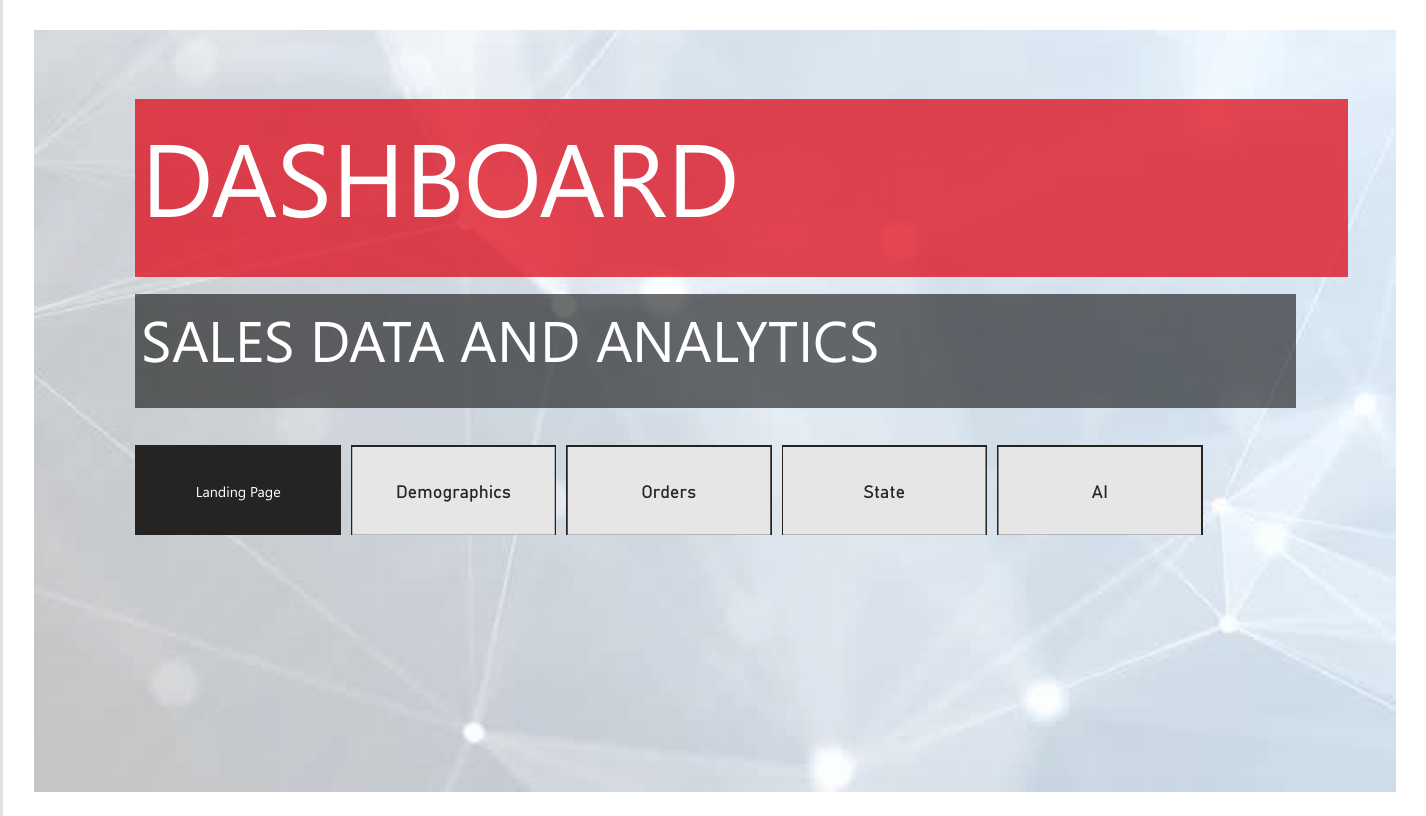

Layout of this report page (visuals, bound fields, positions):
{"tool":"powerbi","page":{"name":"Landing Page","canvas":[1280,720],"ordinal":0},"visuals":[{"type":"image","box":[0,0,1280.8,720.6],"z":0},{"type":"group","id":"g1","title":"Group 1","box":[100,70,1132,288.3],"z":1000},{"type":"pageNavigator","box":[100,393.3,995,83.3],"z":2000},{"type":"textbox","box":[100,251.7,1083.3,106.7],"z":4500,"group":"g1"},{"type":"textbox","box":[100,70,1132,165.7],"z":5000,"group":"g1"}]}

Visuals, with their boxes in screenshot pixels (x1, y1, x2, y2), scaled from the page's 1280x720 canvas onto the 1426x816 screenshot:
image: [left=0, top=0, right=1425, bottom=815]
"Group 1" group: [left=111, top=79, right=1373, bottom=406]
pageNavigator: [left=111, top=446, right=1220, bottom=540]
textbox: [left=111, top=285, right=1318, bottom=406]
textbox: [left=111, top=79, right=1373, bottom=267]
